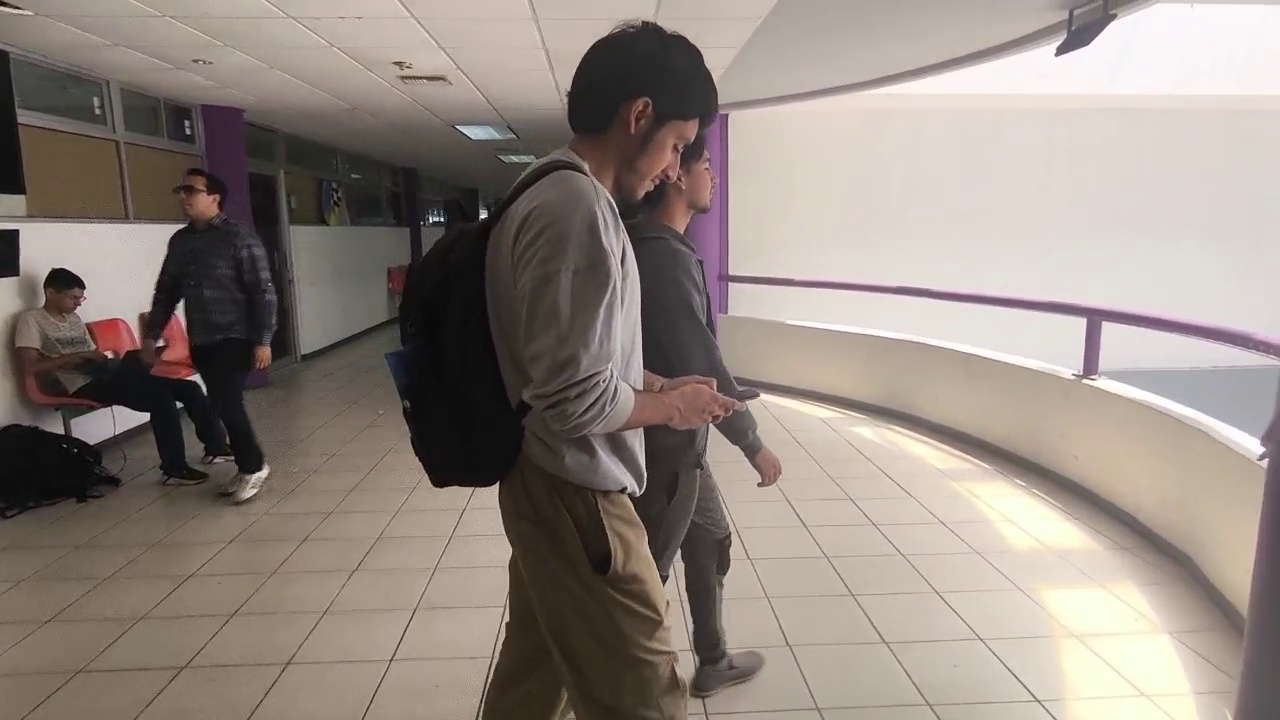mixto2: (714, 377, 766, 411)
